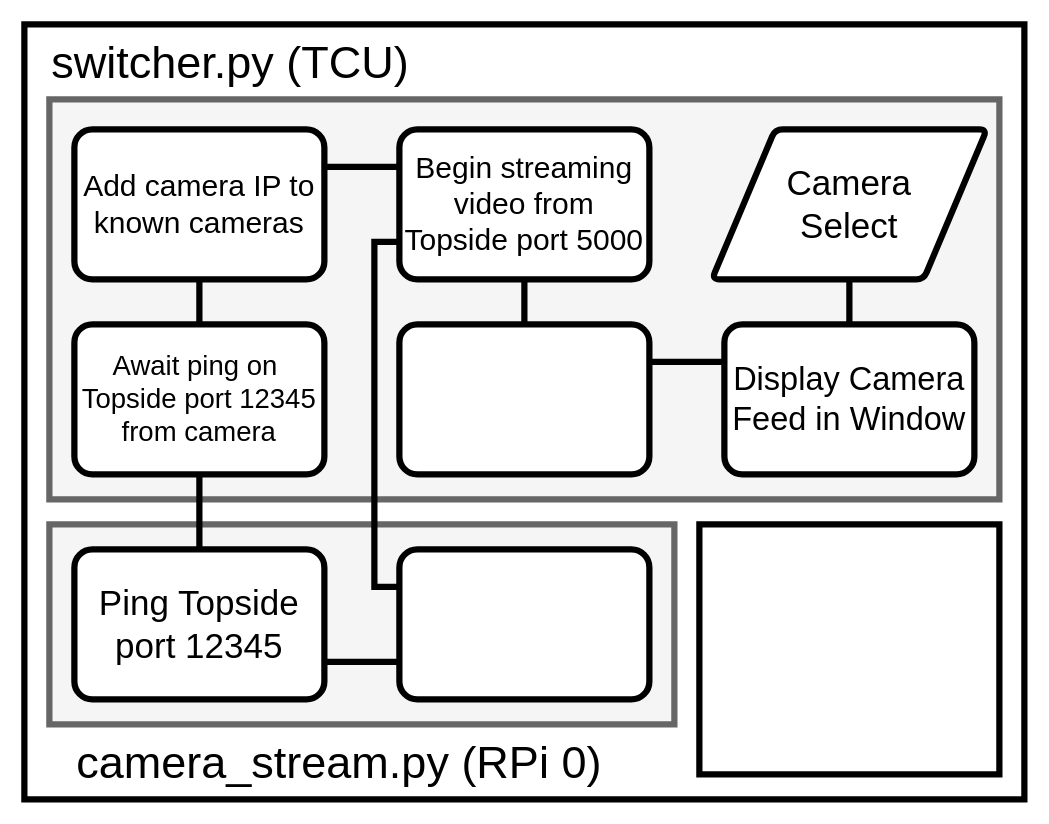
The diagram is 1049 pixels wide and 824 high, and some of its shapes have lost their labels. Here are the shapes that lost their labels. From the top down, the centre of each, then its label:
point 524,399: Add overlay to Video
point 524,624: Stream Video to Topside Port 5000
point 849,649: Camera Feed Diagram
